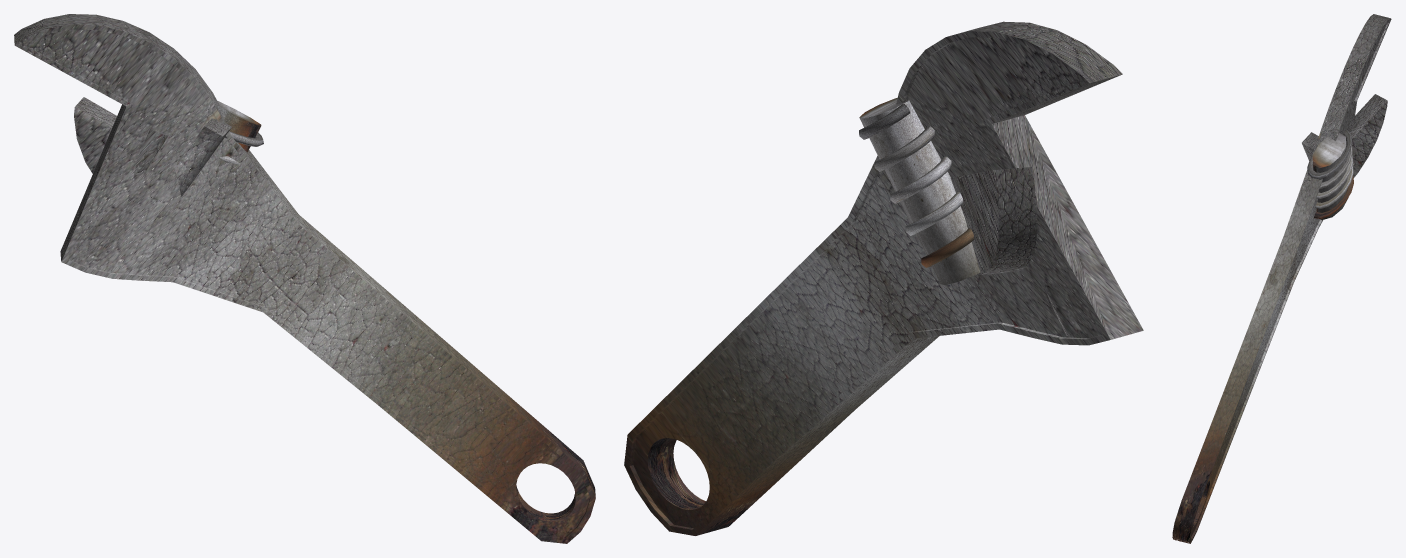
The model's file is wrench.FBX.
3 views of the same model, side by side, from view 1: azimuth 30°, elevation 25°; view 2: azimuth 150°, elevation 25°; view 3: azimuth 270°, elevation 25° (orthographic). The views are drawn at different scales.
Visible parts, largest first — view 1: Cylinder001, Cylinder005, Cylinder002, Cylinder006; view 2: Cylinder001, Cylinder002, Cylinder005, Cylinder006; view 3: Cylinder001, Cylinder002, Cylinder005.
Part boxes in pixels (x1,y1,x2,y2): Cylinder001: (14, 14, 595, 543); Cylinder005: (74, 97, 231, 196); Cylinder002: (217, 101, 263, 164); Cylinder006: (132, 129, 168, 181); Cylinder001: (624, 21, 1143, 535); Cylinder002: (859, 98, 980, 284); Cylinder005: (950, 167, 1037, 274); Cylinder006: (1040, 277, 1082, 335); Cylinder001: (1172, 14, 1391, 543); Cylinder002: (1307, 130, 1353, 219); Cylinder005: (1302, 94, 1387, 177).
Bounding box in the file's own units: 111 × 120 × 61.94.
2 materials, 2 textured.
